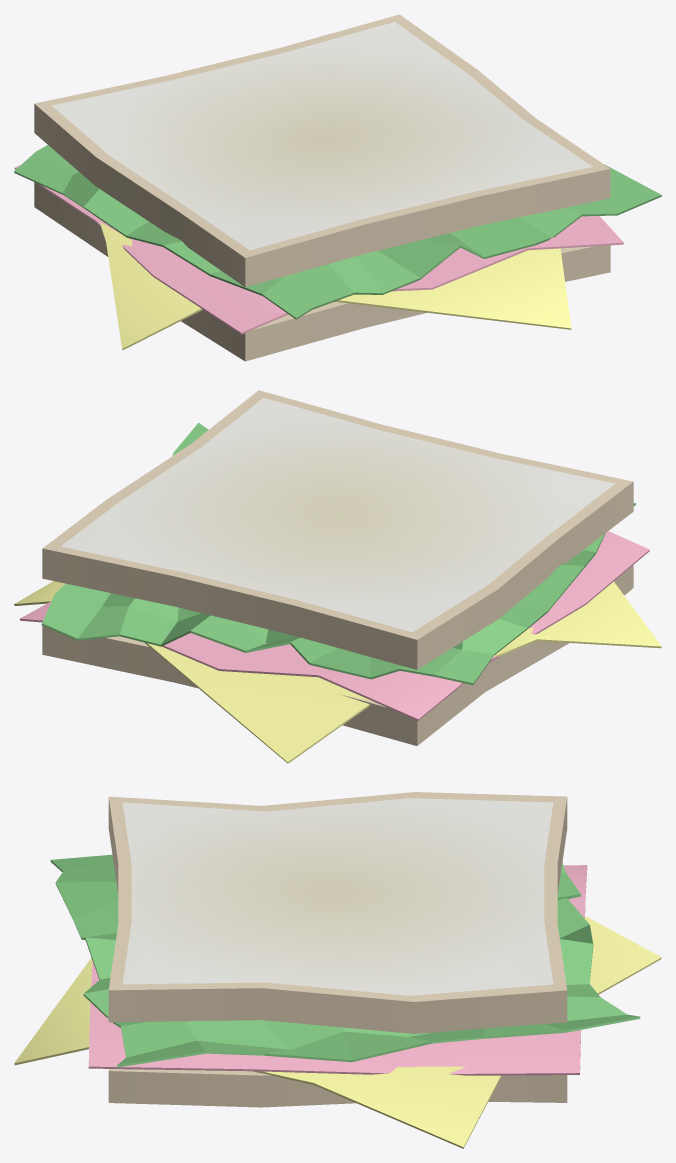
File: sandwich.fbx
3 renders of one model, top to bottom at view 1: azimuth 30°, elevation 25°; view 2: azimuth 150°, elevation 25°; view 3: azimuth 270°, elevation 25°, orthographic. The views are drawn at different scales.
Parts seen in each view (by area): view 1: top bread, lettuce, cheese, bottom bread, ham; view 2: top bread, lettuce, cheese, ham, bottom bread; view 3: top bread, lettuce, cheese, ham, bottom bread.
Boxes of the visible parts, bbox=[...] form: top bread: bbox=[34, 14, 610, 287]; lettuce: bbox=[14, 145, 661, 319]; cheese: bbox=[100, 222, 571, 349]; bottom bread: bbox=[34, 182, 610, 361]; ham: bbox=[14, 165, 623, 334]; top bread: bbox=[42, 390, 633, 669]; lettuce: bbox=[41, 422, 635, 684]; cheese: bbox=[14, 581, 661, 763]; ham: bbox=[20, 531, 649, 720]; bottom bread: bbox=[42, 565, 633, 745]; top bread: bbox=[108, 792, 567, 1033]; lettuce: bbox=[50, 854, 640, 1067]; cheese: bbox=[14, 916, 661, 1148]; ham: bbox=[88, 865, 587, 1075]; bottom bread: bbox=[108, 1069, 567, 1107].
Bounding box in the file's own units: 0.2469 × 0.0521 × 0.2469.
